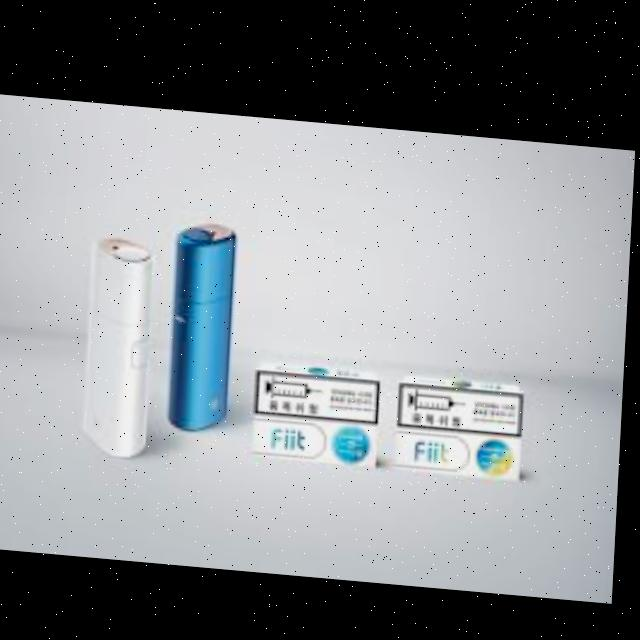vape: (85, 230, 160, 457), (171, 218, 240, 428)
